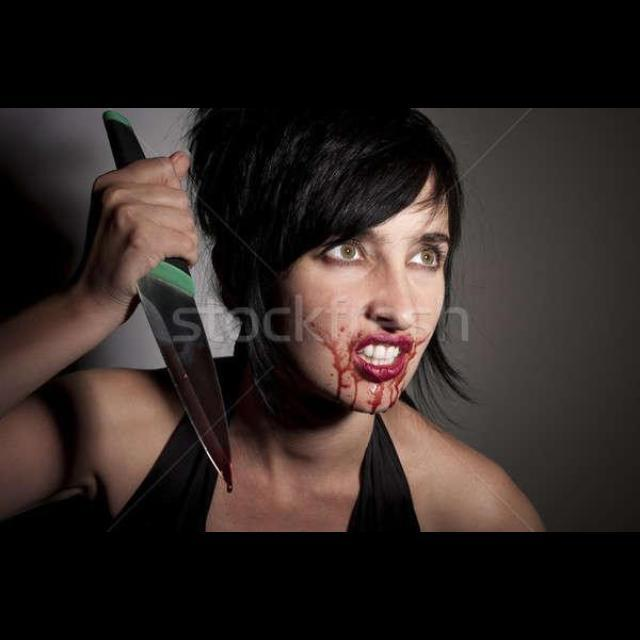blood: (294, 294, 434, 414), (226, 461, 231, 494), (221, 474, 225, 481)
